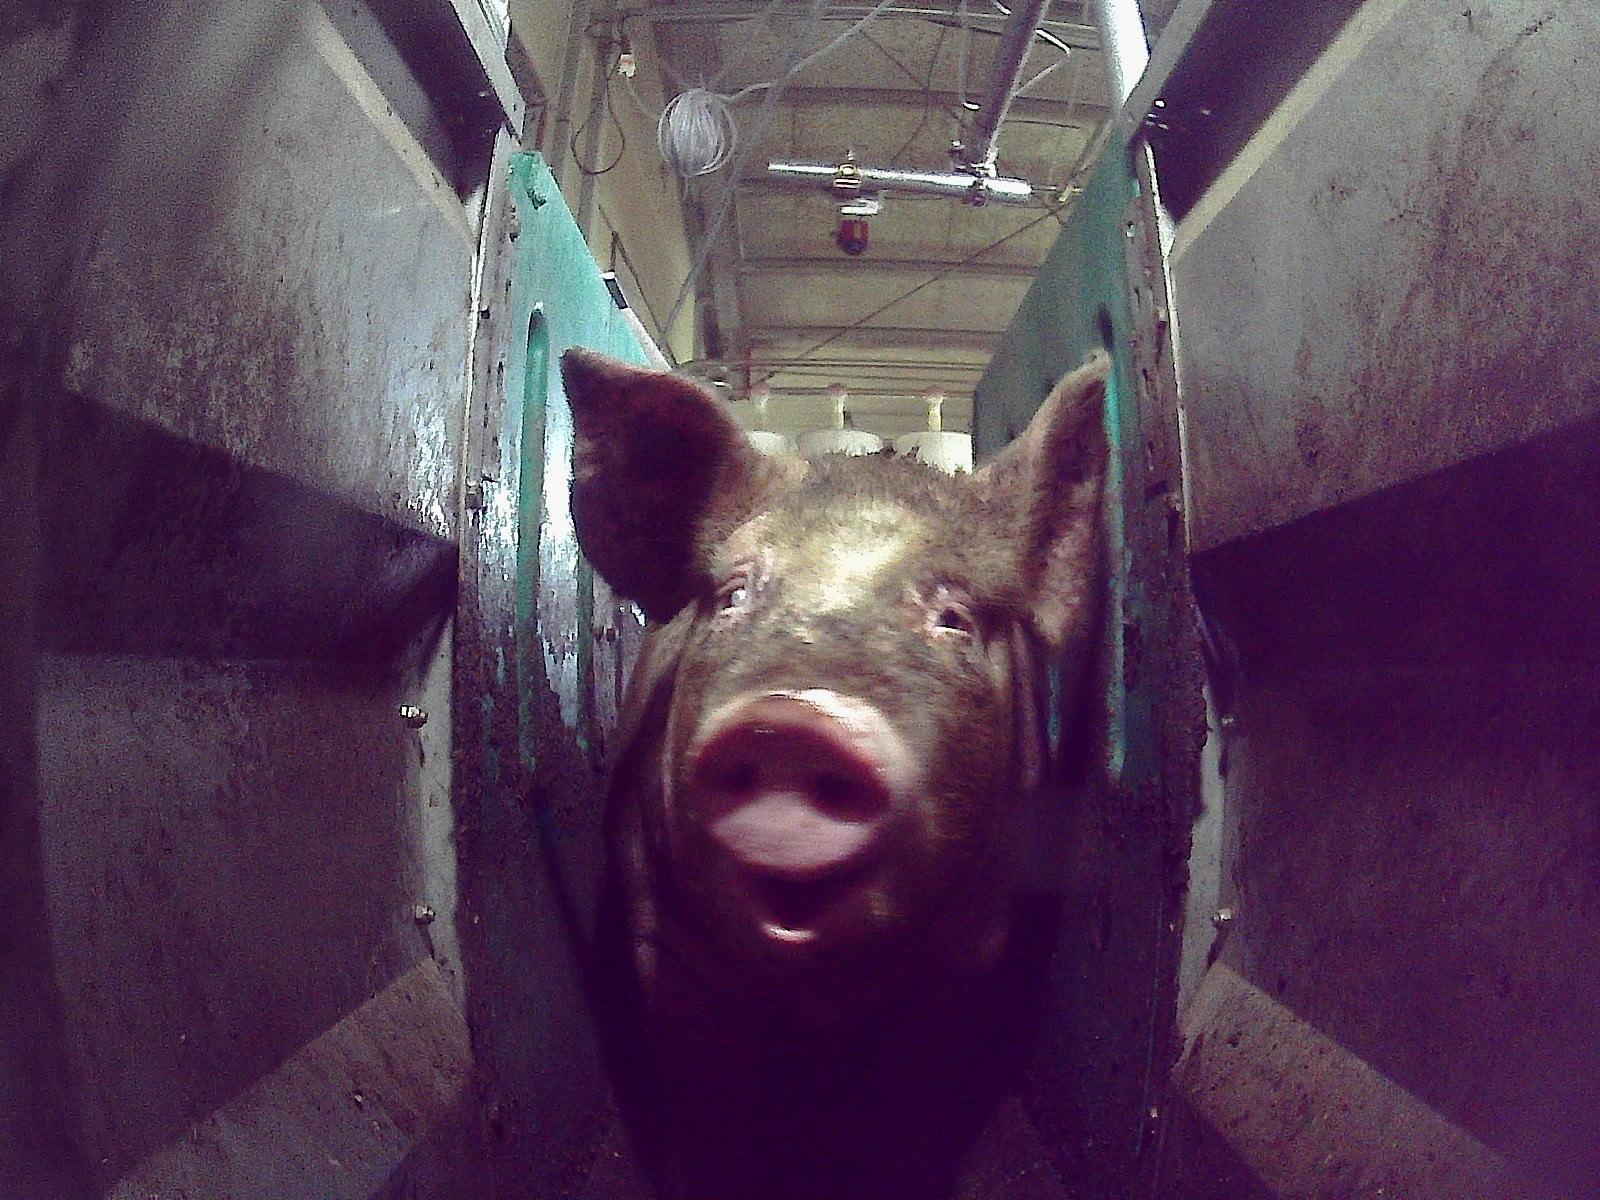Face: (659, 454, 1038, 978)
